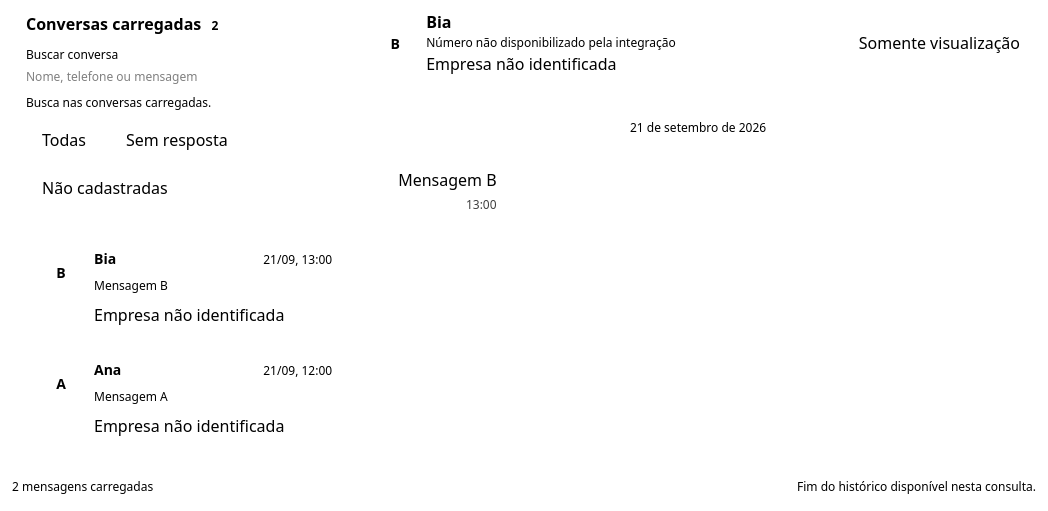
Scenario: novos dados preservam a conversa escolhida e mostram a mensagem nova
Step 1. Click the button "A Ana 21/09, 12:00 Mensagem A Empresa não identificada" → click(298, 370), box [24,343,348,454]
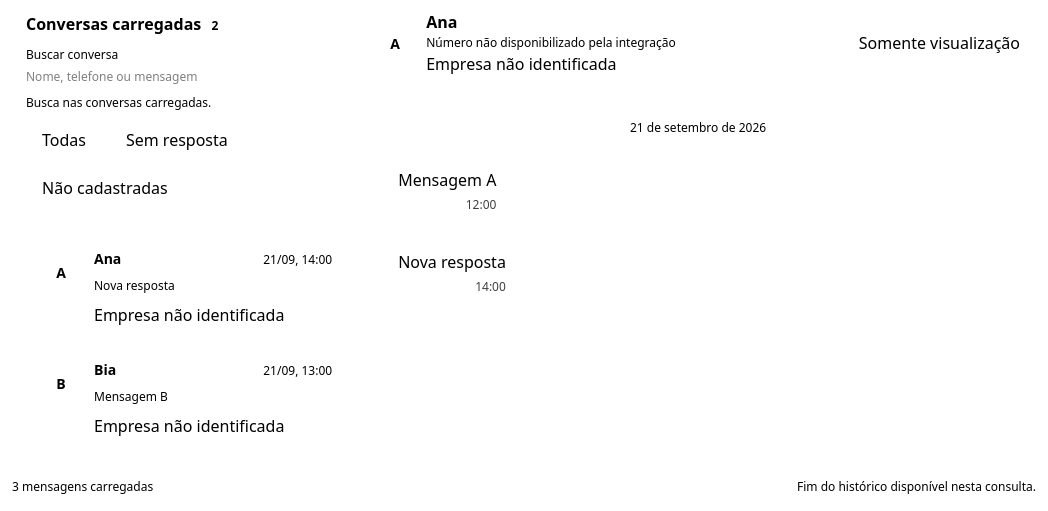
expect the button "A Ana 21/09, 14:00 Nova resposta Empresa não identificada" is shown: met, box [24,232,348,343]
expect the list shows "Nova resposta": met, box [398,251,506,273]
expect the list no longer shows "Mensagem B": met
